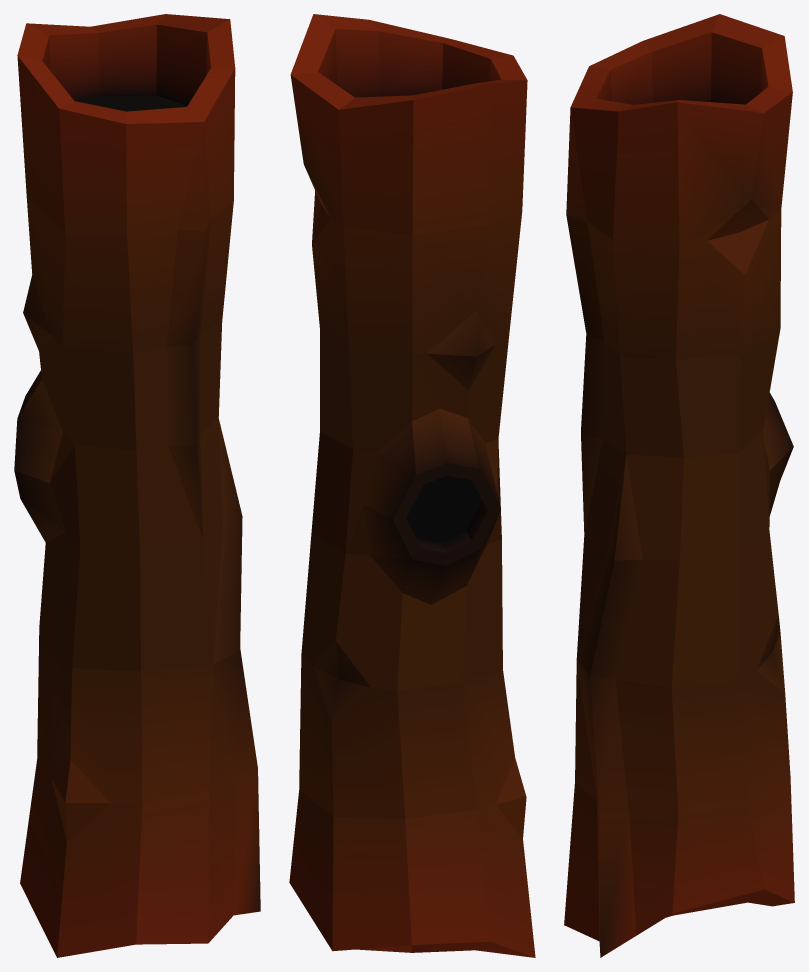
Rendered from tronco.FBX.
3 renders of one model, left to right at view 1: azimuth 30°, elevation 25°; view 2: azimuth 150°, elevation 25°; view 3: azimuth 270°, elevation 25°, orthographic. The views are drawn at different scales.
Parts seen in each view (by area): view 1: Cylinder009; view 2: Cylinder009; view 3: Cylinder009.
Part boxes in pixels (left/top/right/bottom): Cylinder009: left=14, top=14, right=260, bottom=957; Cylinder009: left=289, top=14, right=535, bottom=957; Cylinder009: left=564, top=14, right=794, bottom=957.
Bounding box in the file's own units: 96.35 × 395 × 94.39.
